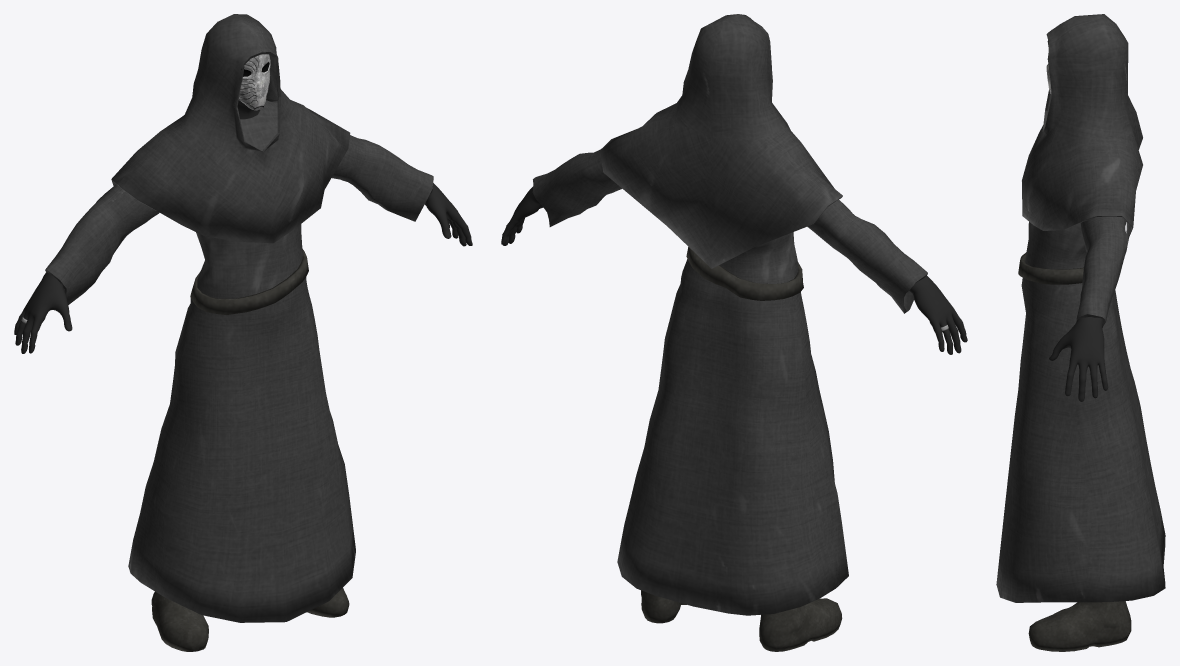
The model's file is Mask.fbx.
3 renders of one model, left to right at view 1: azimuth 30°, elevation 25°; view 2: azimuth 150°, elevation 25°; view 3: azimuth 270°, elevation 25°, orthographic.
Visible parts, largest first — view 1: SM_BaseMesh_Male.002; view 2: SM_BaseMesh_Male.002; view 3: SM_BaseMesh_Male.002.
Boxes of the visible parts, x1=… form: SM_BaseMesh_Male.002: x1=14, y1=14, x2=472, y2=651; SM_BaseMesh_Male.002: x1=501, y1=14, x2=967, y2=651; SM_BaseMesh_Male.002: x1=996, y1=14, x2=1165, y2=651.
Size of the model in its own units: 342 by 438 by 113.
